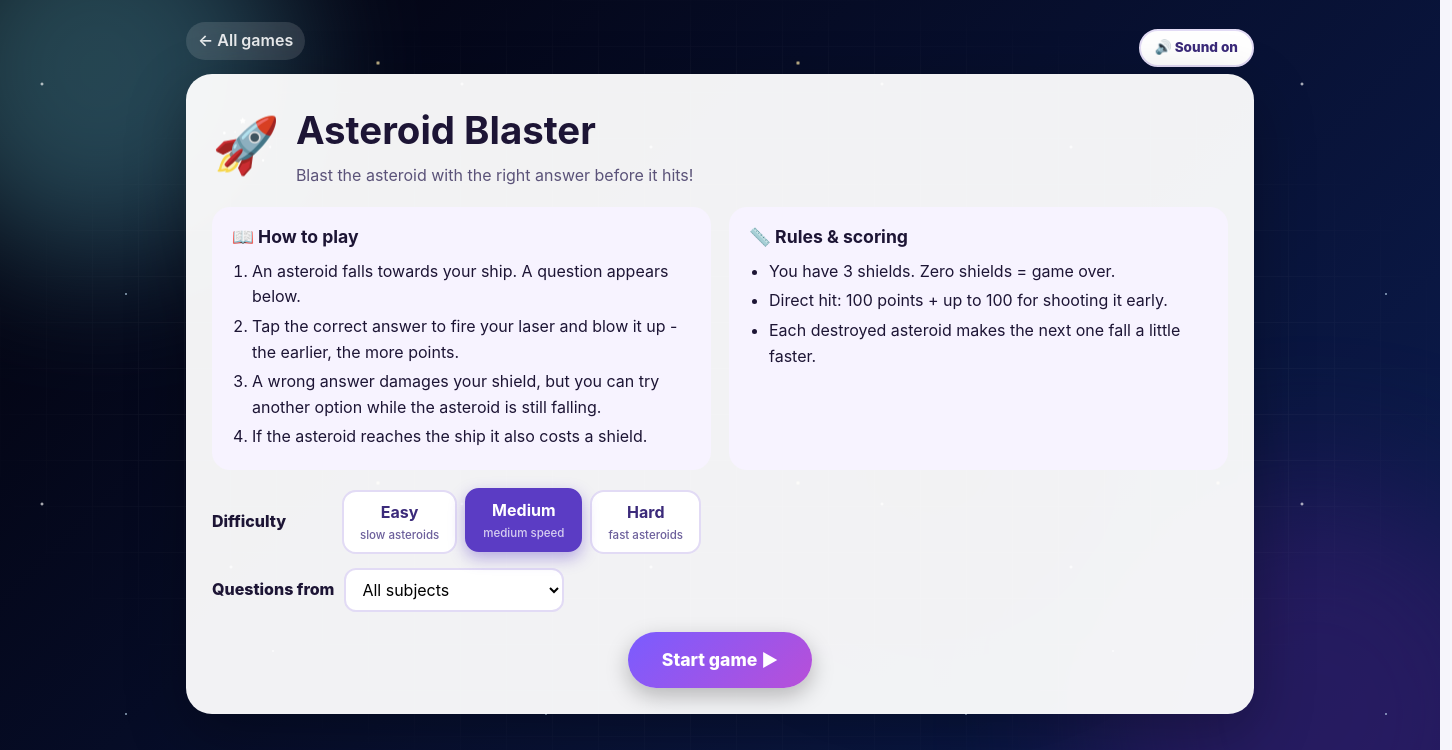
quiz games › Asteroid Blaster: a wrong answer damages a shield but allows another try
Click the radio button labelled "Easy slow asteroids".
click(400, 522)  # box [342,490,457,554]
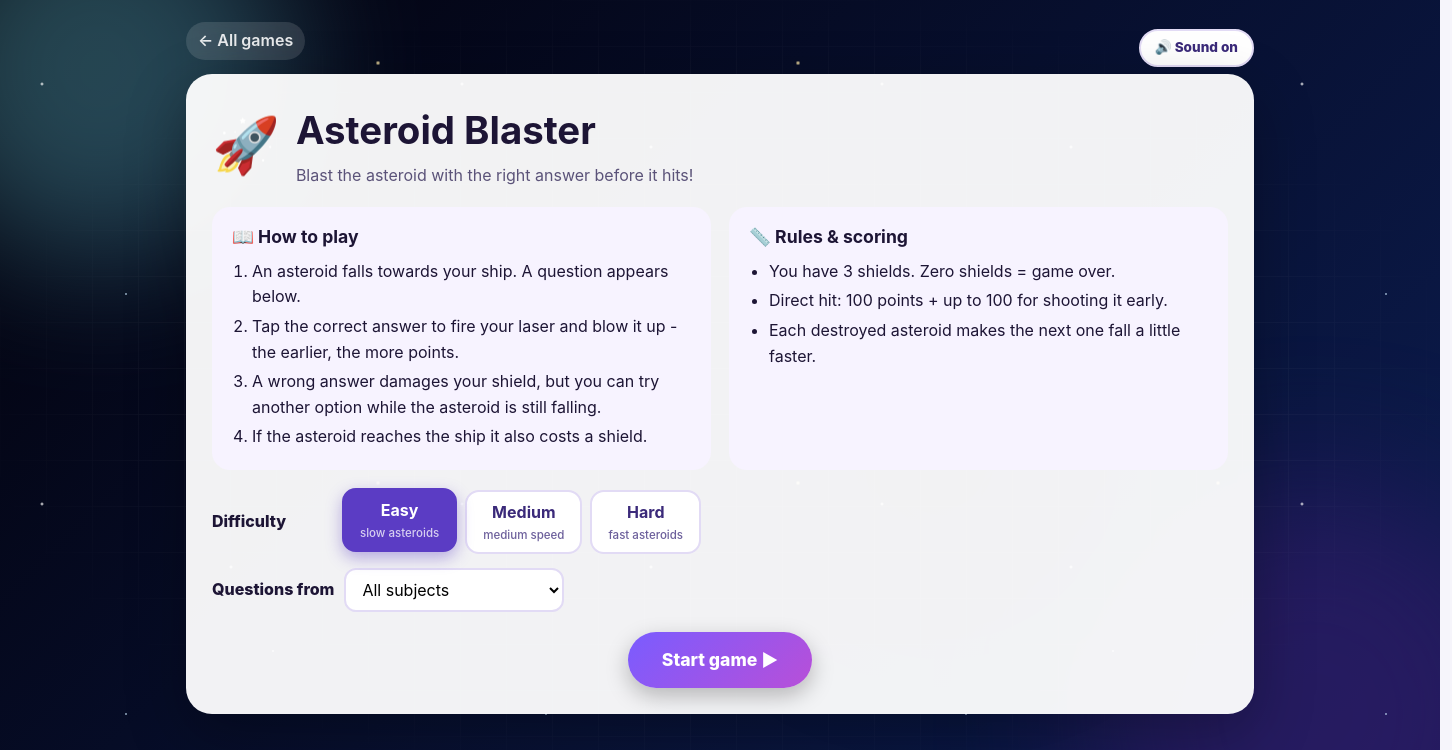
Click the button "Start game ▶".
click(720, 660)  # box [628,632,812,688]
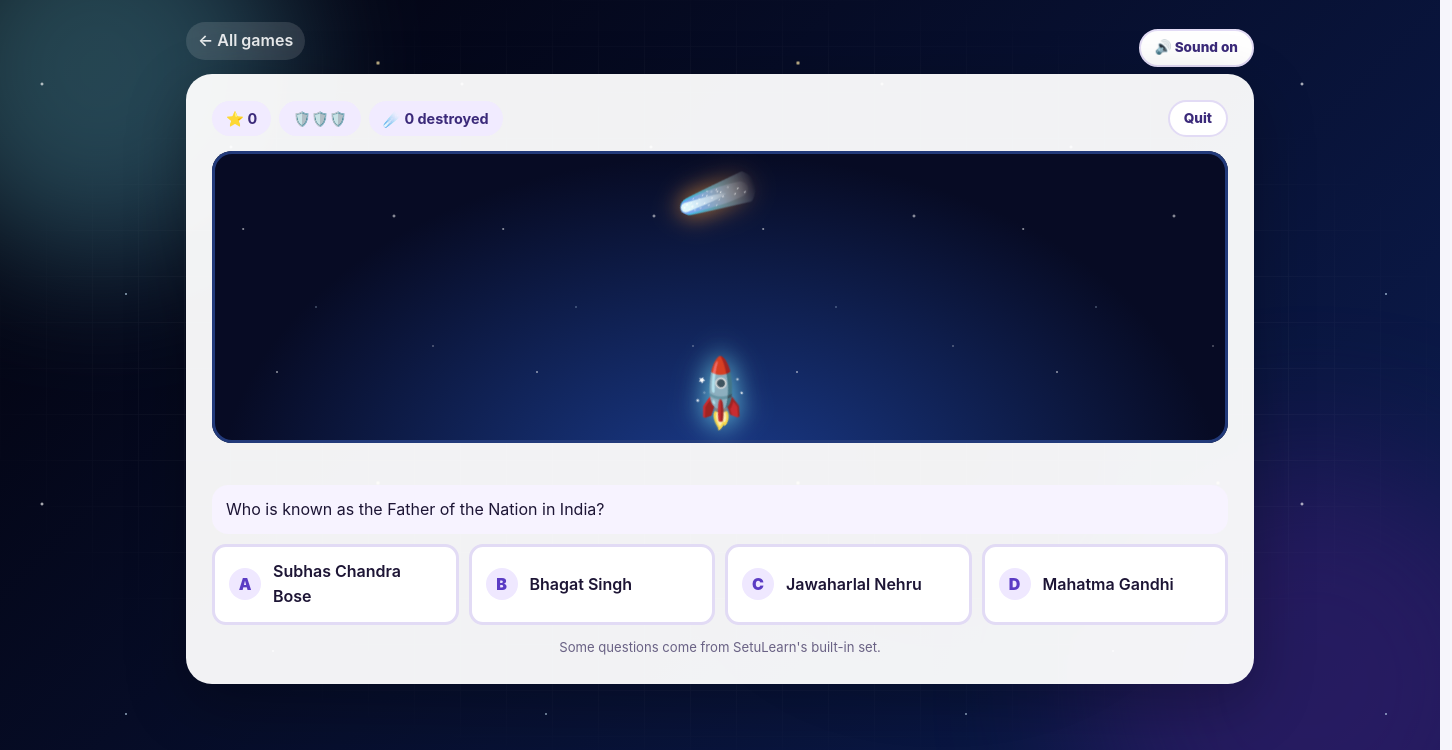
Now the element showing "Who is known as the Father of the Nation in India?" is shown, box [212,485,1228,534]
Click the button with class "mcq-option" showing "A Subhas Chandra Bose".
click(335, 584)  # box [212,544,458,625]
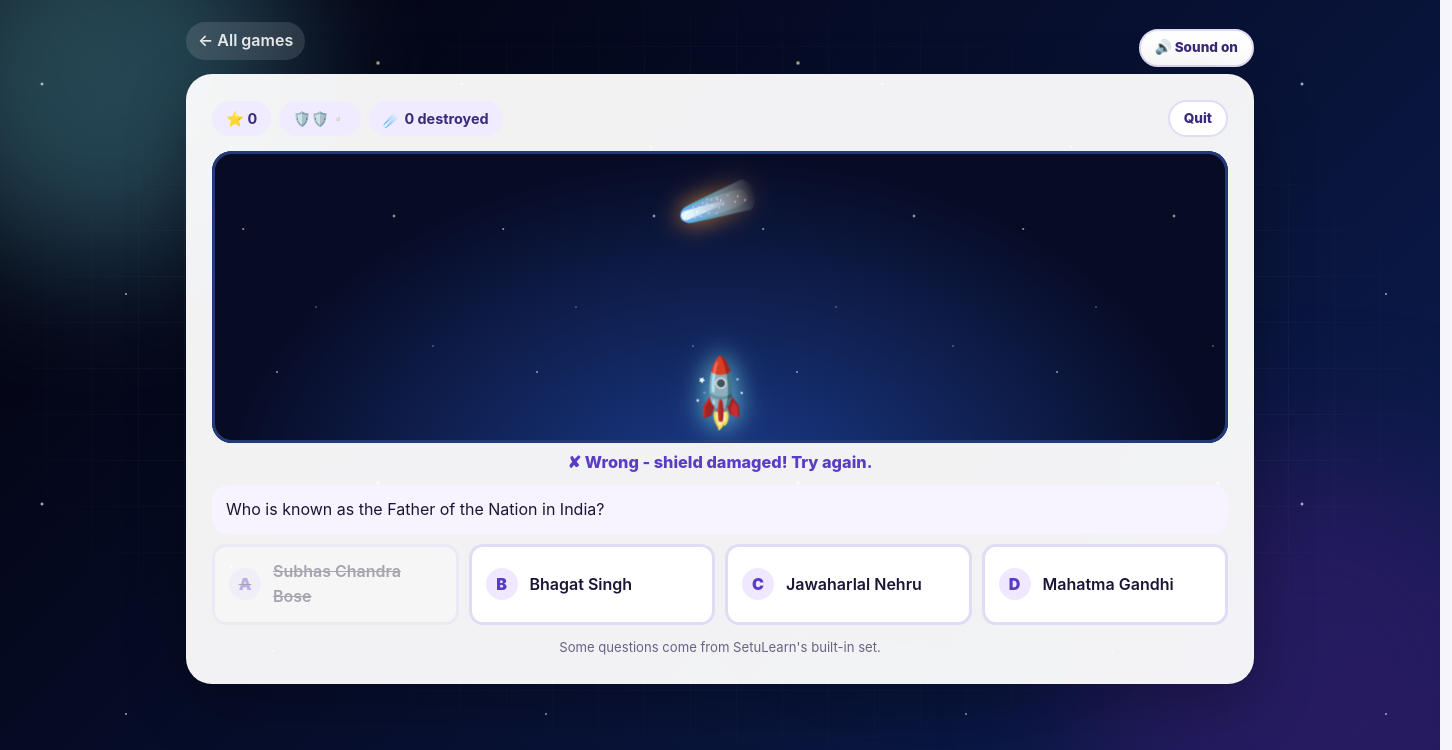
Now the text "✘ Wrong - shield damaged! Try again." is shown, box [568,452,872,472]
Now the text named "2 shields" is shown, box [279,101,361,136]
